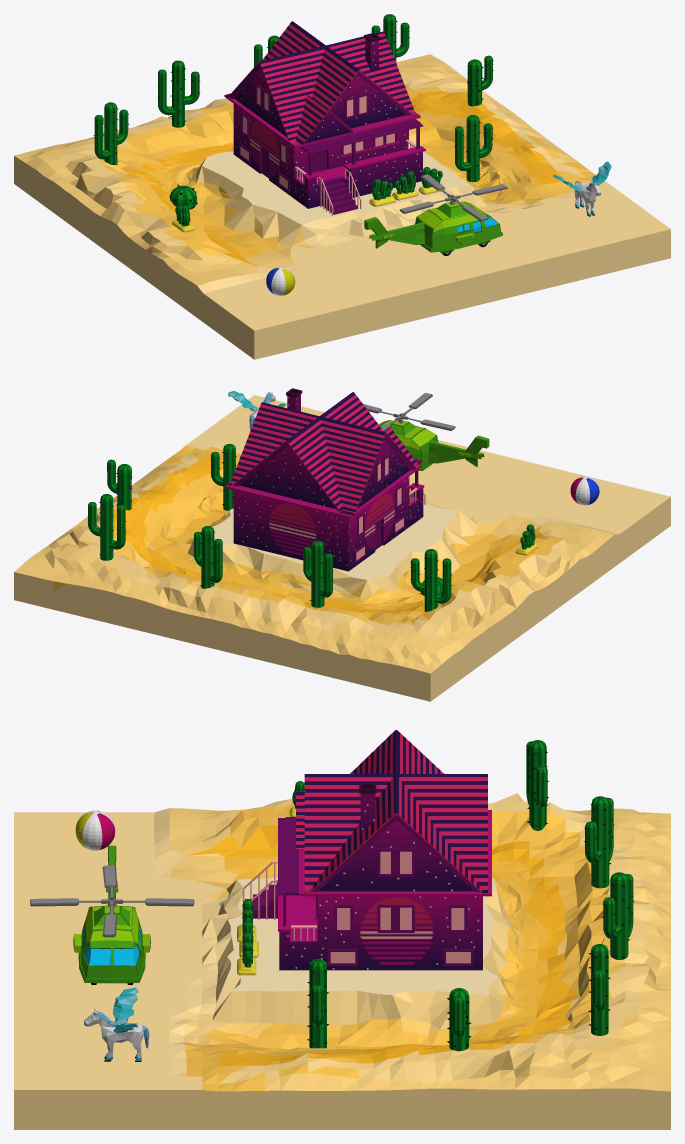
3 renders of one model, top to bottom at view 1: azimuth 30°, elevation 25°; view 2: azimuth 150°, elevation 25°; view 3: azimuth 270°, elevation 25°, orthographic. The views are drawn at different scales.
Parts seen in each view (by area): view 1: Cube.001, Cube.156, VEHICLES_HELICOPTER, Cylinder.037, Cylinder.044, Cylinder.045, Cylinder.038, ANIMAL_PEGASO, Cylinder.042, OBJRANDOM_BEACHBALL, Cylinder.039, Sphere.023 (+1 smaller); view 2: Cube.001, Cube.156, VEHICLES_HELICOPTER, Cylinder.042, Cylinder.045, Cylinder.044, Cylinder.043, Cylinder.037, Cylinder.038, OBJRANDOM_BEACHBALL, ANIMAL_PEGASO; view 3: Cube.001, Cube.156, VEHICLES_HELICOPTER, Cylinder.043, Cylinder.044, ANIMAL_PEGASO, Cylinder.045, Cylinder.042, Cylinder.037, OBJRANDOM_BEACHBALL, Cylinder.038, Cylinder.041.
Boxes of the visible parts, x1,y1,x2,y2 form: Cube.001: (14,54,670,359); Cube.156: (224,21,425,215); VEHICLES_HELICOPTER: (364,174,507,255); Cylinder.037: (454,115,493,182); Cylinder.044: (157,60,200,127); Cylinder.045: (93,102,129,164); Cylinder.038: (467,55,493,106); ANIMAL_PEGASO: (553,161,611,216); Cylinder.042: (371,14,409,62); OBJRANDOM_BEACHBALL: (266,266,295,295); Cylinder.039: (369,179,395,206); Sphere.023: (169,184,197,209); Cube.001: (14,395,670,701); Cube.156: (225,388,425,571); VEHICLES_HELICOPTER: (363,393,489,470); Cylinder.042: (88,494,126,560); Cylinder.045: (410,549,452,611); Cylinder.044: (303,540,333,607); Cylinder.043: (193,526,222,588); Cylinder.037: (211,444,240,510); Cylinder.038: (107,459,131,510); OBJRANDOM_BEACHBALL: (570,476,599,505); ANIMAL_PEGASO: (228,391,285,430); Cube.001: (14,793,670,1129); Cube.156: (242,730,491,970); VEHICLES_HELICOPTER: (30,845,194,984); Cylinder.043: (602,872,634,959); Cylinder.044: (584,796,614,888); ANIMAL_PEGASO: (84,987,149,1061); Cylinder.045: (526,740,549,830); Cylinder.042: (588,944,610,1035); Cylinder.037: (307,959,329,1048); OBJRANDOM_BEACHBALL: (75,810,115,850); Cylinder.038: (447,988,471,1051); Cylinder.041: (237,932,256,975).
Bounding box in the file's own units: 4002 × 1630 × 4001.
Materials: 33 (4 with a texture image).
